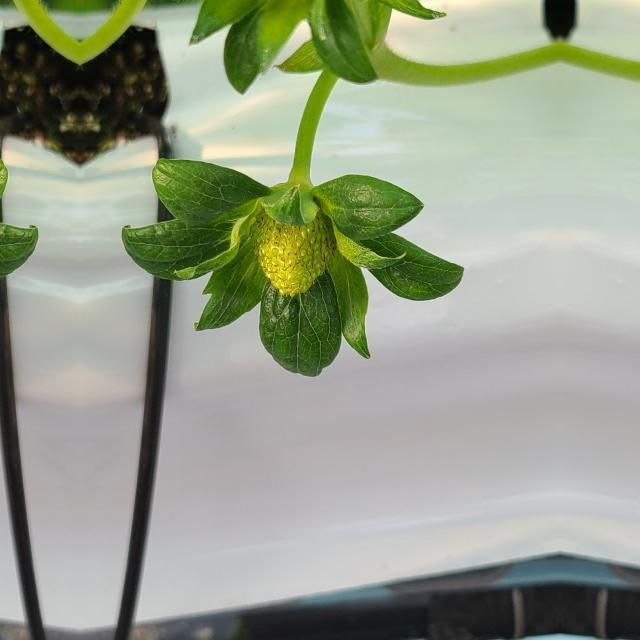Health_25: (252, 200, 336, 296)
